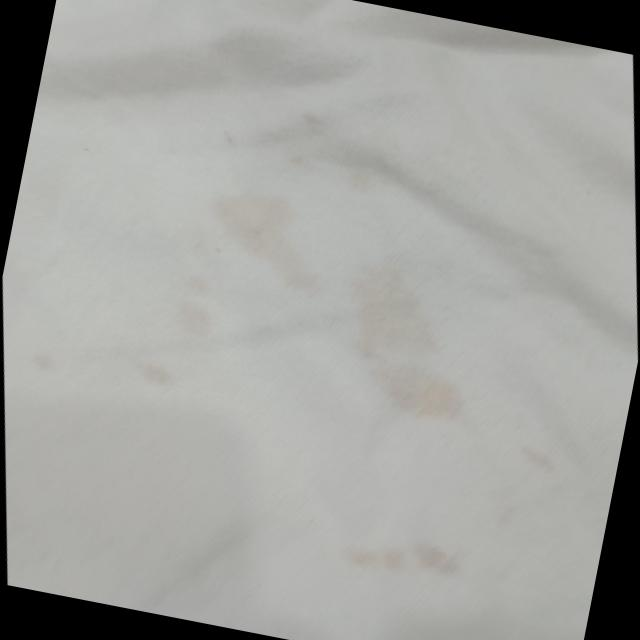stain: (319, 240, 506, 437), (188, 166, 356, 304), (326, 517, 479, 595), (122, 350, 194, 400), (502, 436, 566, 482), (168, 294, 223, 347)
